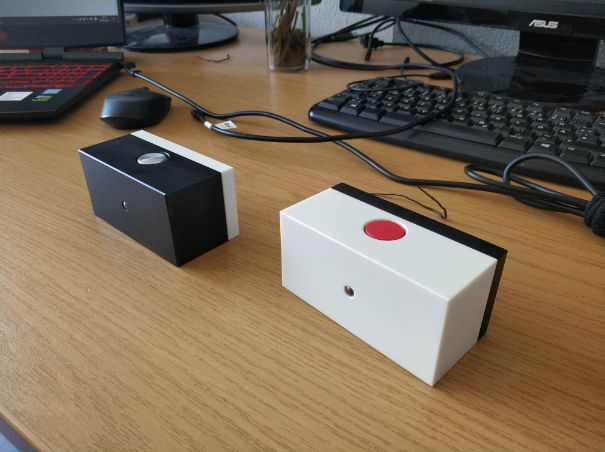black+white+red: (276, 179, 509, 390)
white+black+silver: (75, 128, 243, 268)
